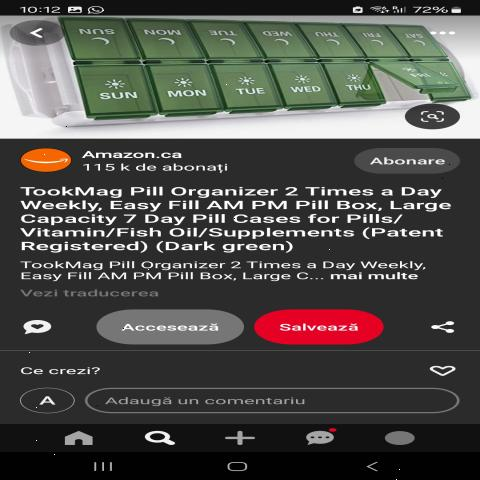PillBox: (15, 16, 474, 130)
